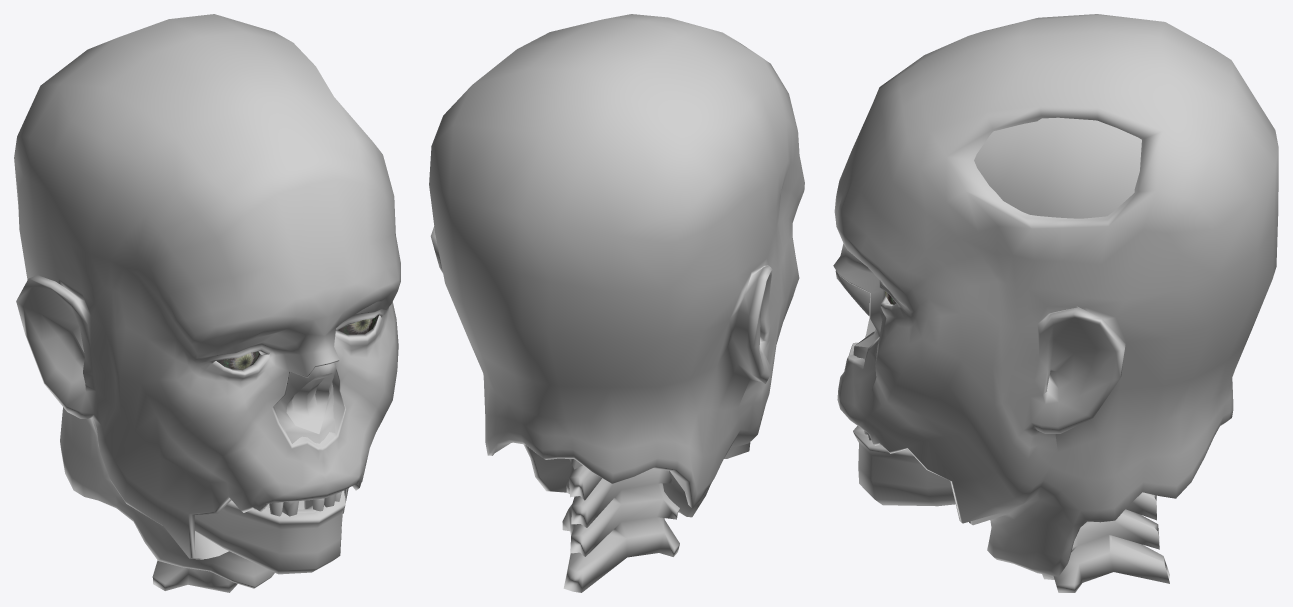
File: Head_05.fbx
The picture shows the model from 3 angles, left to right: view 1: azimuth 30°, elevation 25°; view 2: azimuth 150°, elevation 25°; view 3: azimuth 270°, elevation 25°; orthographic projection. The views are drawn at different scales.
Parts seen in each view (by area): view 1: Head_05; view 2: Head_05; view 3: Head_05.
Part boxes in pixels (x1,y1,x2,y2): Head_05: (14,14,400,592); Head_05: (429,14,804,592); Head_05: (833,14,1278,592).
Bounding box in the file's own units: 17.79 × 27.16 × 19.98.
